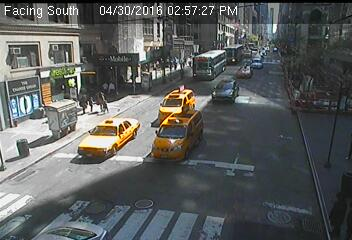neg: (207, 151, 223, 172), (44, 95, 58, 113), (130, 113, 143, 131), (46, 164, 59, 181), (165, 130, 177, 146), (21, 45, 33, 61), (217, 51, 229, 66), (242, 71, 252, 83), (140, 71, 150, 83), (207, 93, 216, 105), (274, 42, 283, 54), (47, 50, 56, 62), (18, 87, 27, 99), (300, 33, 308, 43), (190, 71, 197, 80), (29, 135, 36, 144), (260, 25, 266, 34), (93, 27, 99, 36), (156, 93, 162, 101), (139, 17, 144, 24)
pos: (75, 90, 94, 116), (93, 91, 109, 113), (98, 81, 111, 100), (86, 95, 99, 113), (99, 100, 109, 114), (107, 81, 117, 95)
